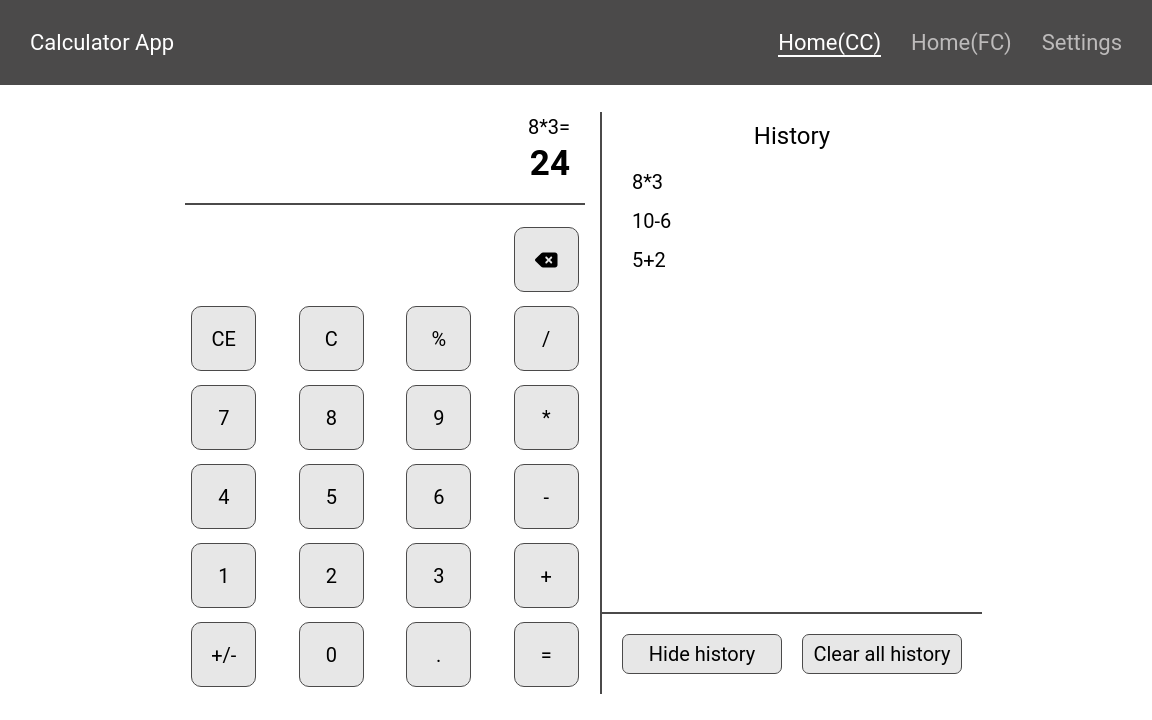
Test: Home CC E2E › should change sign of a value
Click the text with test id "btn+-": (224, 655) [191,622,256,687]
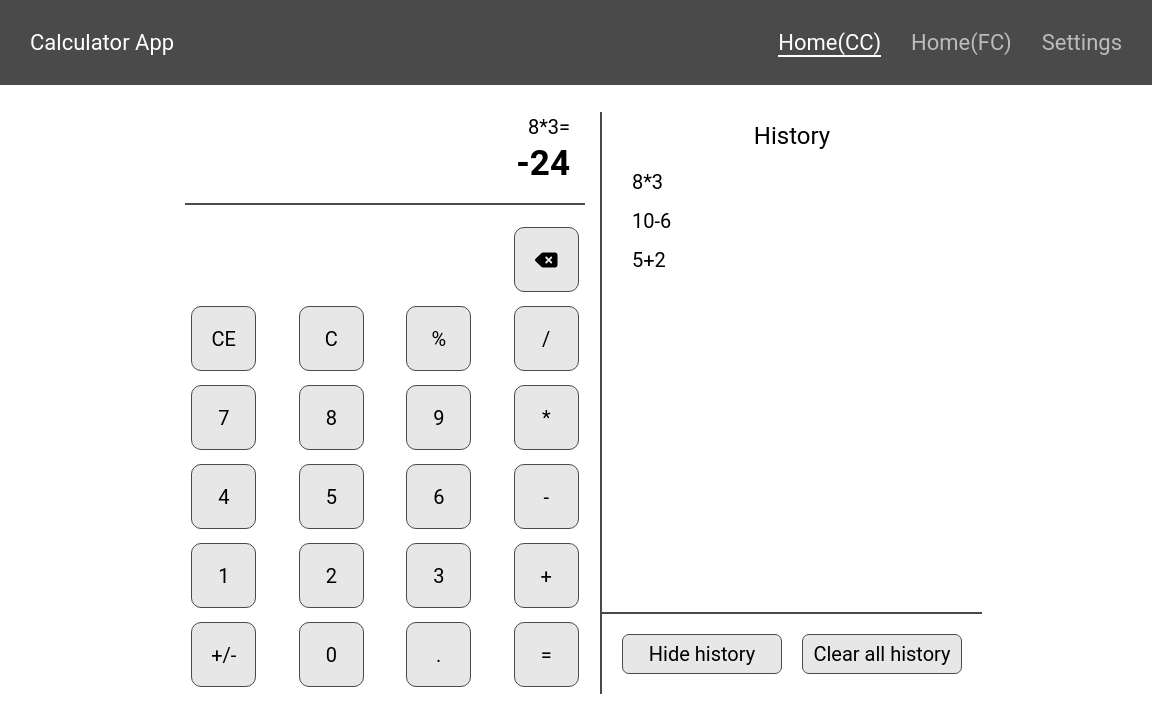
expect the text with test id "displayInput" reads "-24": met, box [516,143,570,184]
